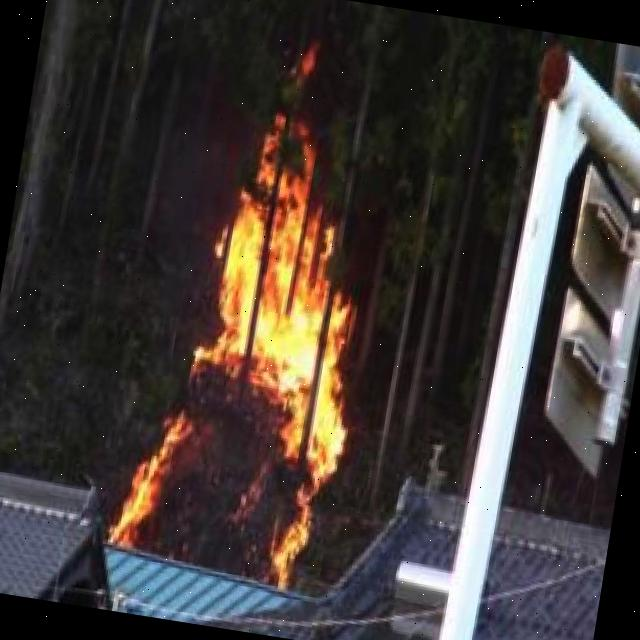fire: (112, 107, 389, 586)
